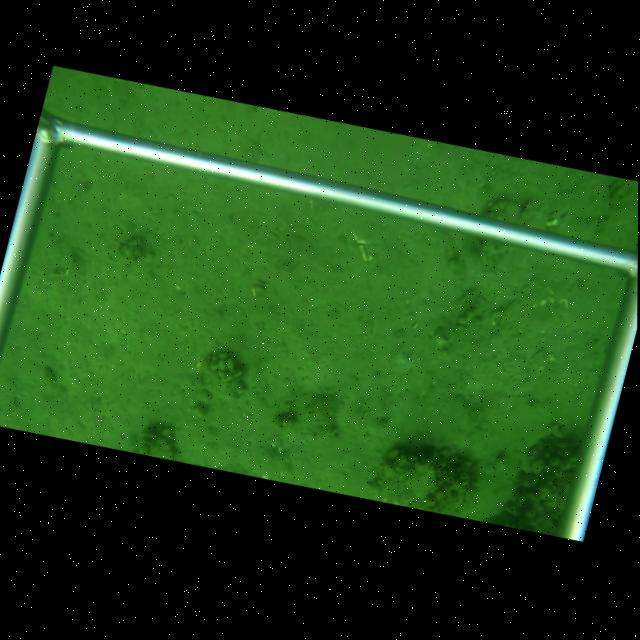Oyster-Indeterminate: (371, 455, 438, 502)
